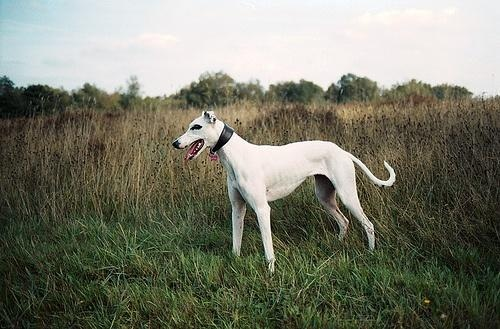dog: (169, 108, 397, 276)
